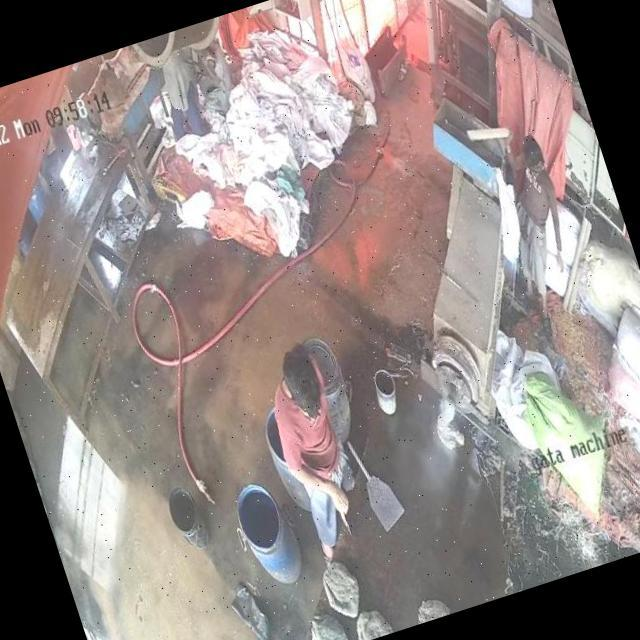person: (248, 328, 388, 558), (486, 140, 591, 310)
